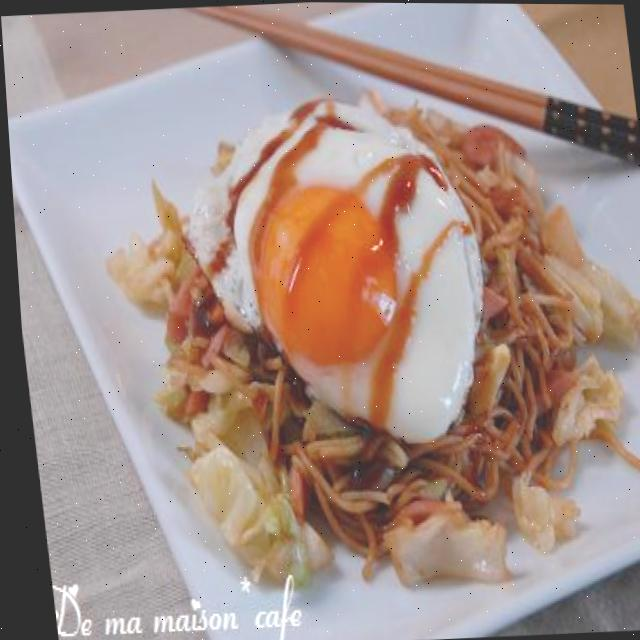面条主食: (0, 0, 640, 640)
鸡蛋料理: (149, 64, 504, 453)
